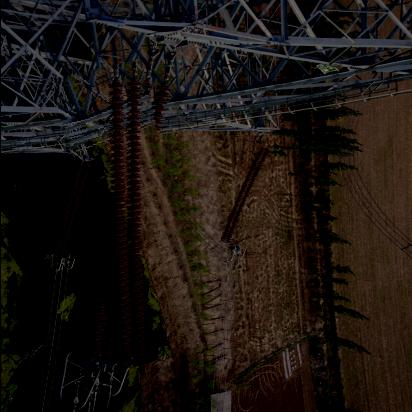insulator: (68, 63, 192, 369), (226, 142, 268, 248), (56, 160, 91, 260)
